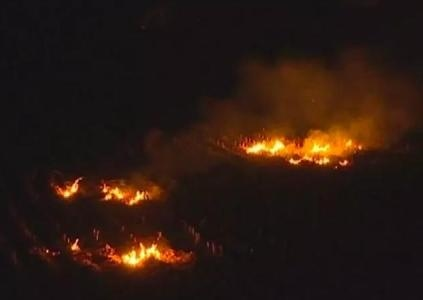fire: (39, 229, 193, 265), (236, 125, 363, 167), (99, 175, 161, 205), (52, 174, 82, 198)
